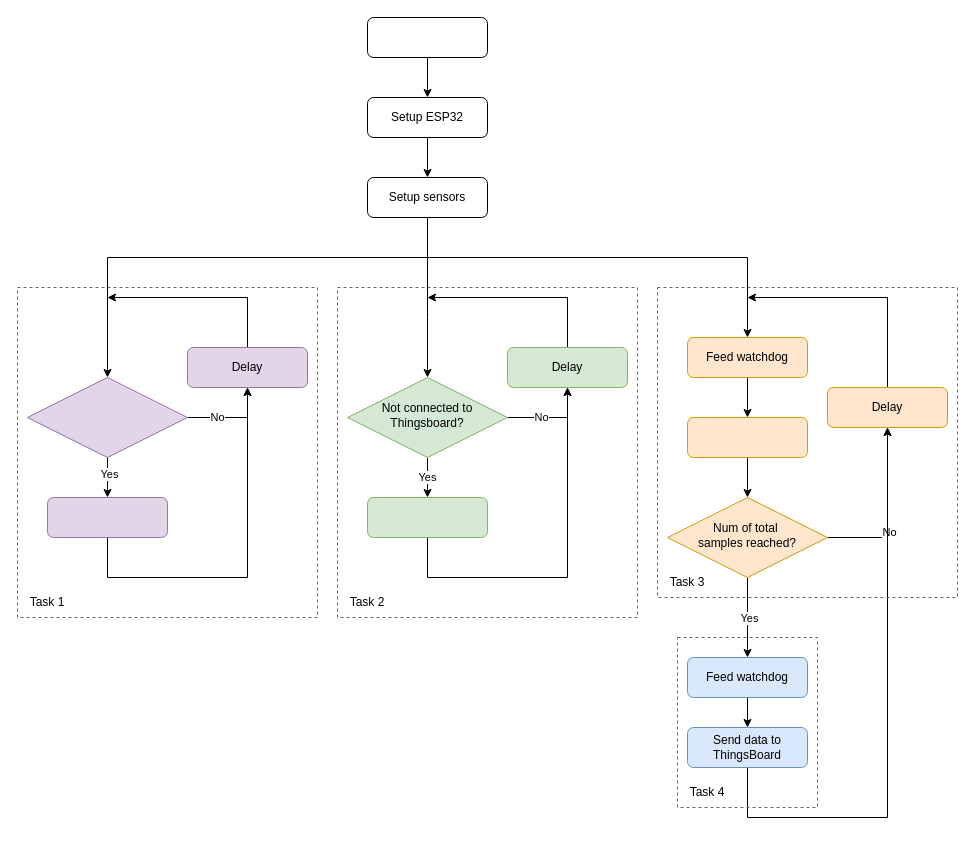
This 975x843 diagram has some shape labels left out. The shapes that lost their labels are listed below. From the top down, each one's centre as x and y in pixels, then its label:
At (427,37): "Start".
At (107,417): "WiFi disconnected?".
At (747,437): "Read sensors".
At (107,517): "Reconnect to WiFi".
At (427,517): "Reconnect to Thingsboard".
